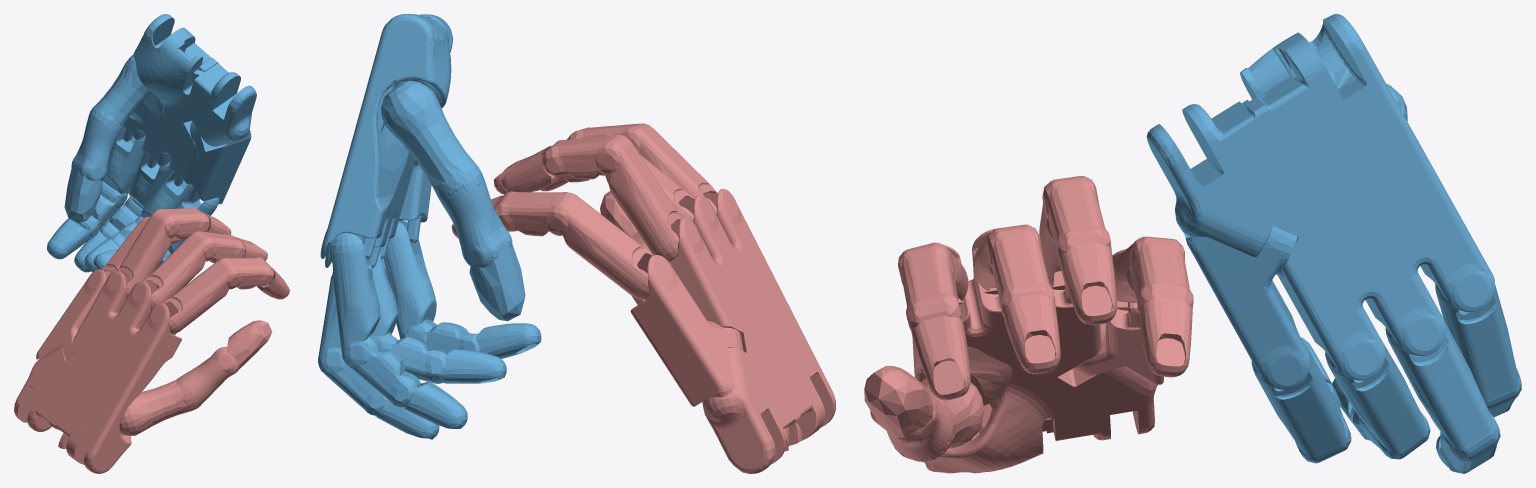
Rendered from PersonStanding_pc.glb.
3 views of the same model, side by side, from view 1: azimuth 30°, elevation 25°; view 2: azimuth 150°, elevation 25°; view 3: azimuth 270°, elevation 25° (orthographic). The views are drawn at different scales.
Visible parts, largest first — view 1: geom_2, geom_1; view 2: geom_2, geom_1; view 3: geom_1, geom_2.
Boxes of the visible parts, x1,y1,x2,y2 form: geom_2: (14, 207, 289, 473); geom_1: (47, 14, 256, 272); geom_2: (451, 123, 835, 473); geom_1: (318, 14, 541, 439); geom_1: (1146, 14, 1521, 473); geom_2: (864, 175, 1193, 473).
Size of the model in its own units: 0.1789 by 0.2256 by 0.222.
